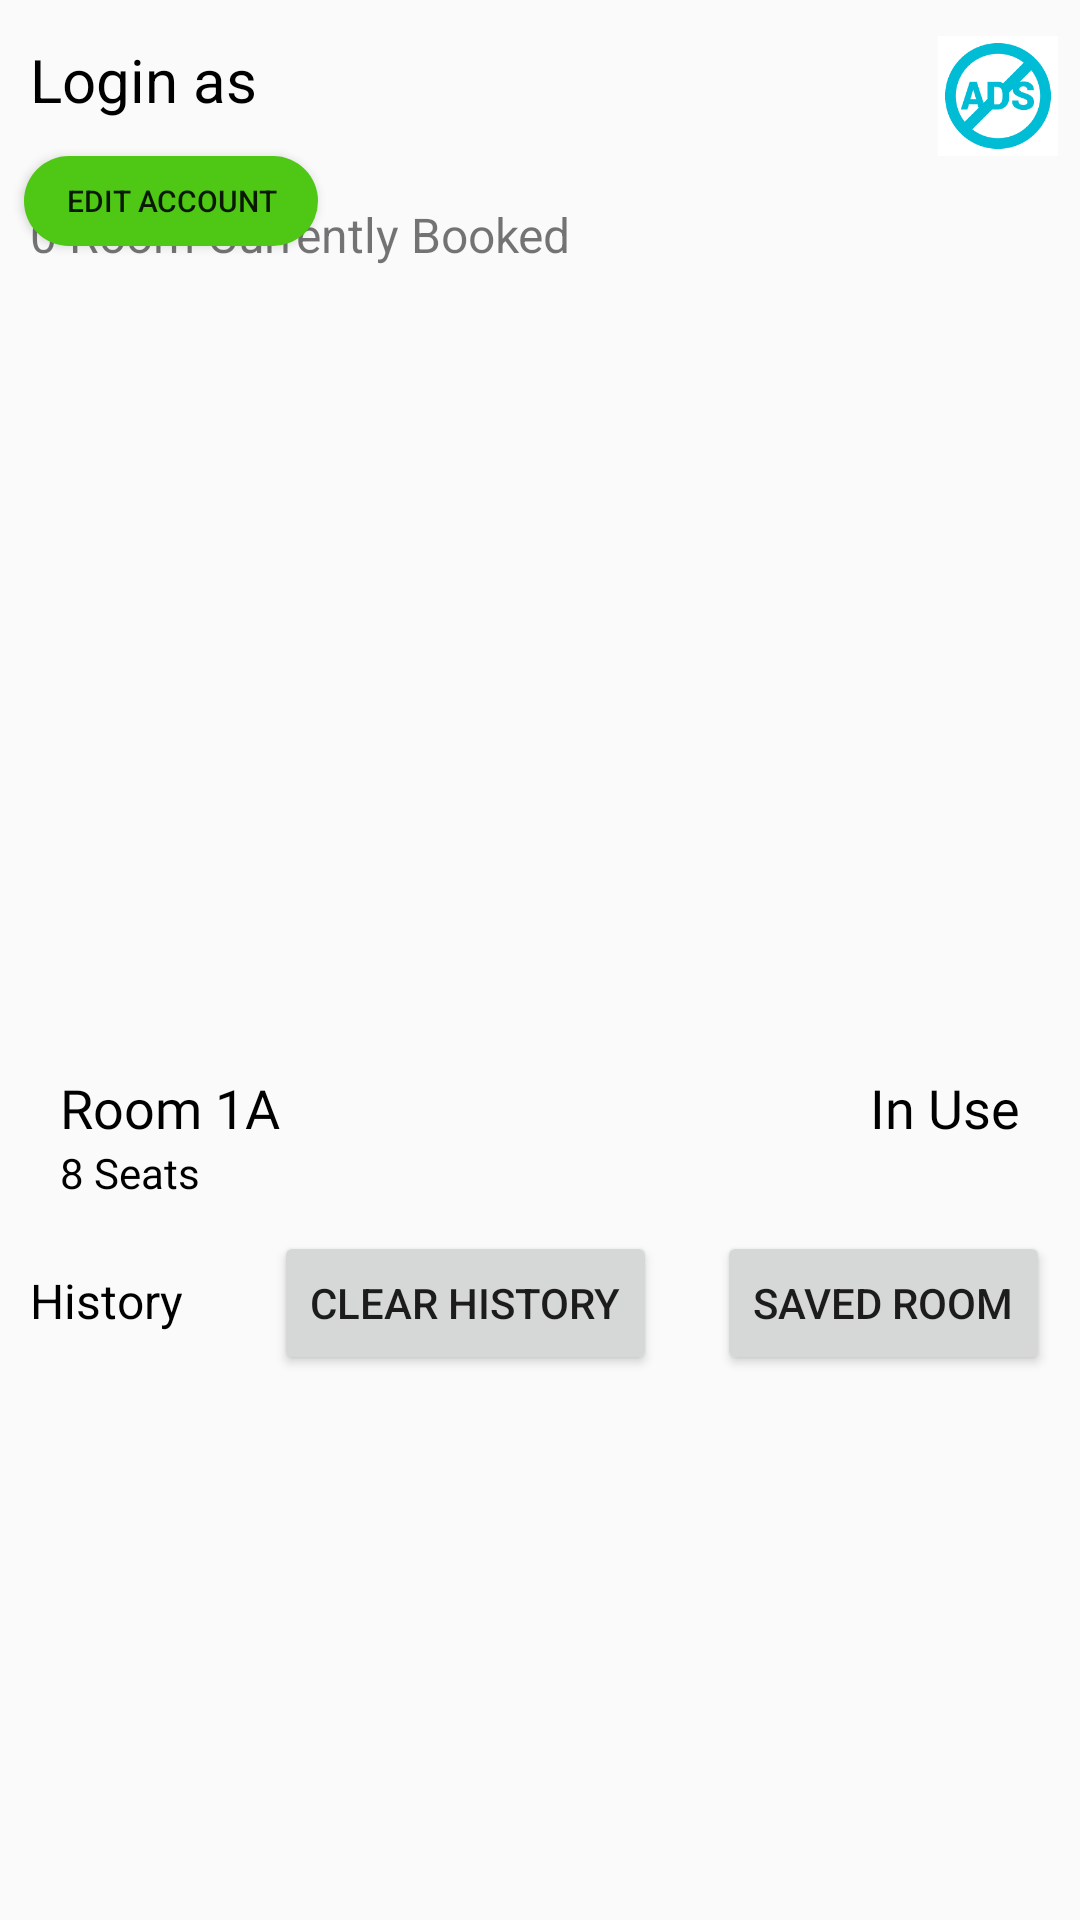

Where to tap for icons on this 1080px x 1920px app screen, as [x,y]:
adsblock: [998,96]
